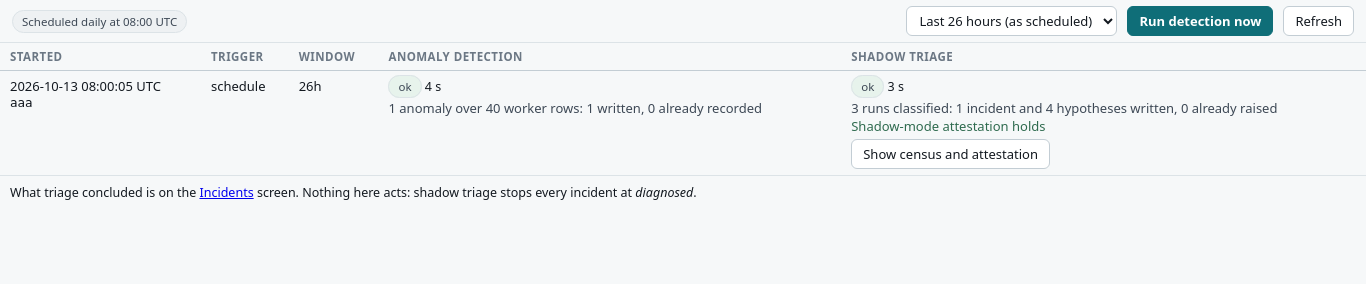
Test: DetectionScreen › opens the census and the attestation in a row of their own
Expected: the text "rows_lost_silently" is not shown
Click the button "Show census and attestation".
click(951, 154)  # box x1=851 y1=139 x2=1050 y2=169
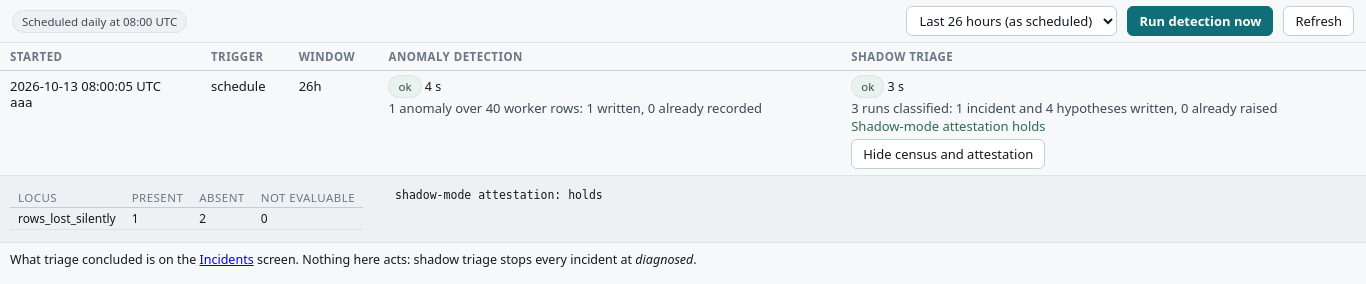
Expected: the column heading "rows_lost_silently" is shown, x1=10 y1=208 x2=124 y2=230
Expected: the text "shadow-mode attestation: holds" is shown, x1=395 y1=188 x2=603 y2=202
Expected: the button "Hide census and attestation" is expanded, x1=851 y1=139 x2=1045 y2=169
